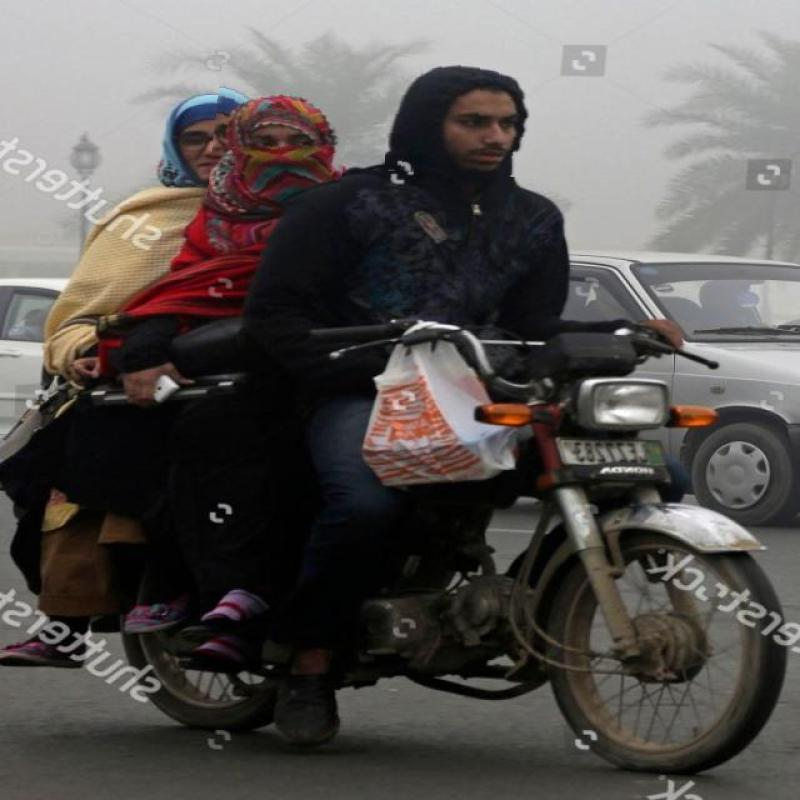nohelmet: (210, 62, 349, 210), (386, 55, 534, 176)
